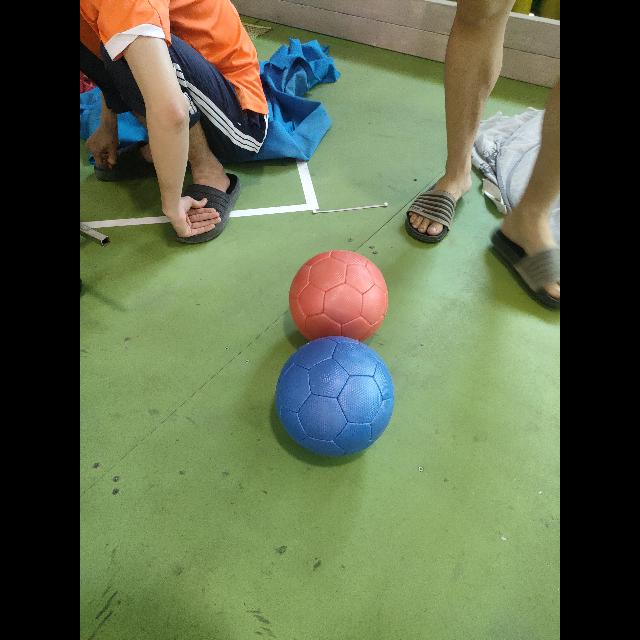B: (275, 335, 395, 456)
R: (289, 250, 388, 341)
